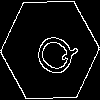Q: (25, 25, 80, 83)
